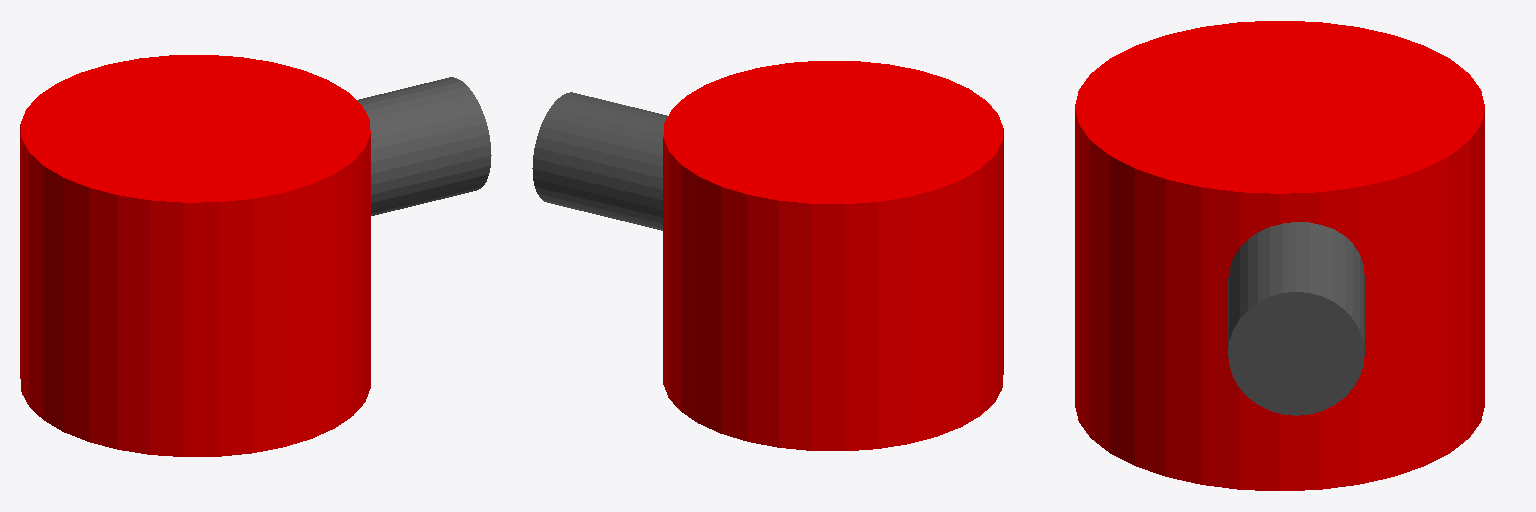
robot.urdf — jackal:
<?xml version="1.0" encoding="utf-8"?>

<robot name="jackal">

  <material name="light_grey">
    <color rgba="0.4 0.4 0.4 1.0"/>
  </material>
  <material name="black">
    <color rgba="0.15 0.15 0.15 1.0"/>
  </material>
  <material name="red">
    <color rgba="1.0 0.0 0.0 1.0"/>
  </material>

  <link name="base_link">
    <inertial>
      <origin rpy="0 0 0" xyz="0.0  0.0 0.0"/>
      <mass value="0.01"/>
      <inertia ixx="0.01" iyy="0.01" izz="0.01"/>
    </inertial>
  </link>
  <joint name="base_link_joint" type="fixed">
    <origin rpy="0 0 0" xyz="0 0 0"/>
    <parent link="base_link"/>
    <child link="chassis_link"/>
  </joint>

  <link name="chassis_link">
    <visual>
      <origin rpy="1.57079632679 0 1.57079632679" xyz="0 0 -0.0655"/>
      <geometry>
        <mesh filename="./jackal_meshes/jackal-base.stl" scale=".76 .76 .76"/>
      </geometry>
      <material name="light_grey"/>
    </visual>
    <collision>
      <origin xyz="0 0 0.092"/>
      <geometry>
        <box size="0.32 0.24 0.15"/>
      </geometry>
    </collision>
    <inertial>
      <origin rpy="0 0 0" xyz="0.012  0.002 0.067"/>
      <mass value="3.0"/>
      <inertia ixx="0.3136" ixy="-0.0008" ixz="0.0164" iyy="0.3922" iyz="-0.0009" izz="0.4485"/>
    </inertial>
  </link>

  <link name="front_left_wheel_link">
    <visual>
      <origin rpy="1.57079632679 0 0" xyz="0 -0.04 0"/>
      <geometry>
        <mesh filename="./jackal_meshes/jackal-wheel.stl" scale=".76 .76 .76"/>
      </geometry>
      <material name="black"/>
    </visual>
    <collision>
      <origin rpy="1.57079632679 0 0" xyz="0 -0.04 0"/>
      <geometry>
        <cylinder length="0.04" radius="0.07448"/>
      </geometry>
    </collision>
    <inertial>
      <origin rpy="0 0 0" xyz="0 0 0"/>
      <mass value="0.1"/>
      <inertia ixx="0.0013" ixy="0" ixz="0" iyy="0.0024" iyz="0" izz="0.0013"/>
    </inertial>
  </link>
  <joint name="front_left_wheel" type="continuous">
    <parent link="chassis_link"/>
    <child link="front_left_wheel_link"/>
    <origin rpy="0 0 0" xyz="0.131 0.187795 0.0345"/>
    <axis xyz="0 1 0"/>
  </joint>

  <link name="front_right_wheel_link">
    <visual>
      <origin rpy="1.57079632679 0 0" xyz="0 0.04 0"/>
      <geometry>
        <mesh filename="./jackal_meshes/jackal-wheel.stl" scale=".76 .76 .76"/>
      </geometry>
      <material name="black"/>
    </visual>
    <collision>
      <origin rpy="1.57079632679 0 0" xyz="0 0.04 0"/>
      <geometry>
        <cylinder length="0.04" radius="0.07448"/>
      </geometry>
    </collision>
    <inertial>
      <origin rpy="0 0 0" xyz="0 0 0"/>
      <mass value="0.1"/>
      <inertia ixx="0.0013" ixy="0" ixz="0" iyy="0.0024" iyz="0" izz="0.0013"/>
    </inertial>
  </link>
  <joint name="front_right_wheel" type="continuous">
    <parent link="chassis_link"/>
    <child link="front_right_wheel_link"/>
    <origin rpy="0 0 0" xyz="0.131 -0.187795 0.0345"/>
    <axis xyz="0 1 0"/>
  </joint>

  <link name="rear_left_wheel_link">
    <visual>
      <origin rpy="1.57079632679 0 0" xyz="0 -0.04 0"/>
      <geometry>
        <mesh filename="./jackal_meshes/jackal-wheel.stl" scale=".76 .76 .76"/>
      </geometry>
      <material name="black"/>
    </visual>
    <collision>
      <origin rpy="1.57079632679 0 0" xyz="0 -0.04 0"/>
      <geometry>
        <cylinder length="0.04" radius="0.07448"/>
      </geometry>
    </collision>
    <inertial>
      <origin rpy="0 0 0" xyz="0 0 0"/>
      <mass value="0.1"/>
      <inertia ixx="0.0013" ixy="0" ixz="0" iyy="0.0024" iyz="0" izz="0.0013"/>
    </inertial>
  </link>
  <joint name="rear_left_wheel" type="continuous">
    <parent link="chassis_link"/>
    <child link="rear_left_wheel_link"/>
    <origin rpy="0 0 0" xyz="-0.131 0.187795 0.0345"/>
    <axis xyz="0 1 0"/>
  </joint>

  <link name="rear_right_wheel_link">
    <visual>
      <origin rpy="1.57079632679 0 0" xyz="0 0.04 0"/>
      <geometry>
        <mesh filename="./jackal_meshes/jackal-wheel.stl" scale=".76 .76 .76"/>
      </geometry>
      <material name="black"/>
    </visual>
    <collision>
      <origin rpy="1.57079632679 0 0" xyz="0 0.04 0"/>
      <geometry>
        <cylinder length="0.04" radius="0.07448"/>
      </geometry>
    </collision>
    <inertial>
      <origin rpy="0 0 0" xyz="0 0 0"/>
      <mass value="0.1"/>
      <inertia ixx="0.0013" ixy="0" ixz="0" iyy="0.0024" iyz="0" izz="0.0013"/>
    </inertial>
  </link>
  <joint name="rear_right_wheel" type="continuous">
    <parent link="chassis_link"/>
    <child link="rear_right_wheel_link"/>
    <origin rpy="0 0 0" xyz="-0.131 -0.187795 0.0345"/>
    <axis xyz="0 1 0"/>
  </joint>

  <link name="rear_fender_link">
    <visual>
      <geometry>
        <mesh filename="./jackal_meshes/jackal-fender.stl" scale=".76 .76 .76"/>
      </geometry>
      <material name="red"/>
    </visual>
    <inertial>
      <origin rpy="0 0 0" xyz="0.0  0.0 0.0"/>
      <mass value="0.0"/>
      <inertia ixx="0.0" iyy="0.0" izz="0.0"/>
    </inertial>
  </link>
  <joint name="rear_fender_joint" type="fixed">
    <origin rpy="0 0 3.14159265359" xyz="0 0 0"/>
    <parent link="chassis_link"/>
    <child link="rear_fender_link"/>
  </joint>

  <link name="imu_link">
    <inertial>
      <mass value="0.001"/>
      <origin rpy="0 0 0" xyz="0 0 0"/>
      <inertia ixx="1e-09" ixy="0.0" ixz="0.0" iyy="1e-09" iyz="0.0" izz="1e-09"/>
    </inertial>
  </link>
  <joint name="imu_joint" type="fixed">
    <parent link="chassis_link"/>
    <child link="imu_link"/>
  </joint>

  <link name="turret">
    <visual>
      <geometry>
        <cylinder length="0.12" radius="0.075"/>
      </geometry>
      <origin xyz="0.16 -0.12 0.008"/>
      <material name="red"/>
    </visual>
    <collision>
      <geometry>
        <cylinder length="0.12" radius="0.075"/>
      </geometry>
      <origin xyz="0.16 -0.12 0.008"/>
    </collision>
    <inertial>
      <origin rpy="0 0 0" xyz="0.0  0.0 0.0"/>
      <mass value="0.0"/>
      <inertia ixx="0.0" iyy="0.0" izz="0.0"/>
    </inertial>
  </link>
  <joint name="turret_joint" type="fixed">
    <parent link="chassis_link"/>
    <child link="turret"/>
    <origin xyz="-0.180 0.126 0.1815"/>
  </joint>

  <link name="cannon">
    <visual>
      <geometry>
        <cylinder length="0.1" radius="0.025"/>
      </geometry>
      <origin rpy="1.5708 0 1.5708" xyz="0.425 -0.24 -0.15"/>
      <material name="light_grey"/>
    </visual>
    <collision>
      <geometry>
        <cylinder length="0.1" radius="0.025"/>
      </geometry>
      <origin rpy="1.5708 0 1.5708" xyz="0.425 -0.24 -0.15"/>
    </collision>
    <inertial>
      <origin rpy="0 0 0" xyz="0.0  0.0 0.0"/>
      <mass value="0.0"/>
      <inertia ixx="0.0" iyy="0.0" izz="0.0"/>
    </inertial>
  </link>
  <joint name="cannon_joint" type="fixed">
    <parent link="turret"/>
    <child link="cannon"/>
    <origin xyz="-0.180 0.126 0.1815"/>
  </joint>

</robot>

--- Render facts (derived) ---
The picture shows the robot from 3 angles, left to right: view 1: azimuth 30°, elevation 25°; view 2: azimuth 150°, elevation 25°; view 3: azimuth 270°, elevation 25°; orthographic projection.
Model jackal with 10 links and 9 joints (4 continuous, 5 fixed), rooted at base_link, posed every joint at zero.
Visible links, largest first — view 1: turret, cannon; view 2: turret, cannon; view 3: turret, cannon.
Link boxes in pixels (<box>): turret: <box>20,55,370,456</box>; cannon: <box>357,77,491,215</box>; turret: <box>663,61,1003,450</box>; cannon: <box>532,92,667,230</box>; turret: <box>1075,21,1484,490</box>; cannon: <box>1228,222,1364,415</box>.
Bounding box of the posed robot: 0.21 × 0.15 × 0.12 m (x, y, z).
Meshes: 3 distinct files referenced, 0 mesh visuals loaded (none loaded); not drawn: 6 (reference not matched to a file when rendering).